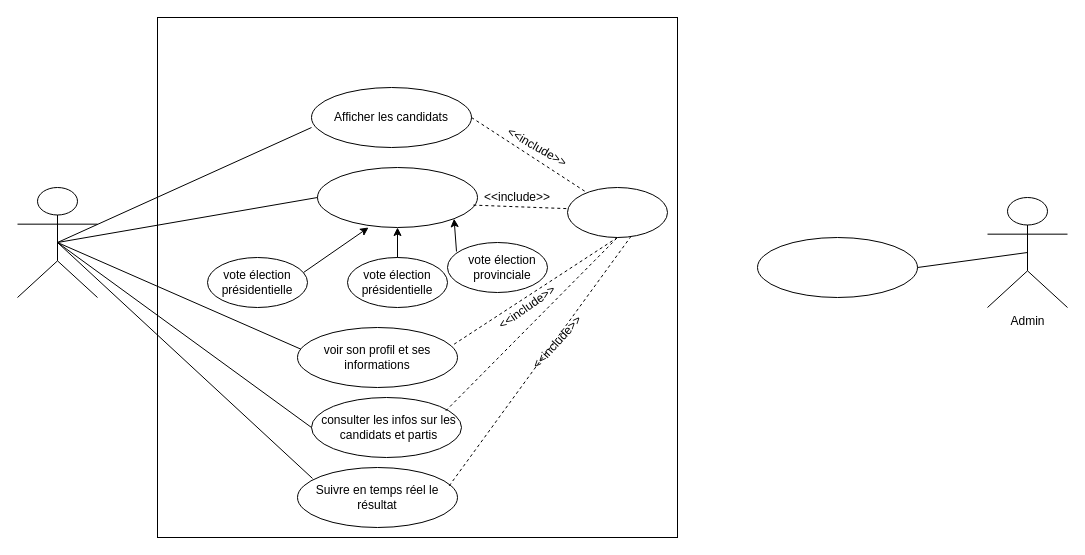
Some shapes in this 1085 by 555 pixel diagram are drawn without their labels. Here are the shapes that lost their labels. From the top down, the centre of each, then its label:
At (x=397, y=197): "Effectuer vote".
At (x=617, y=212): "Authentification".
At (x=57, y=242): "Electeur".
At (x=837, y=267): "fournit les informations de vote".
